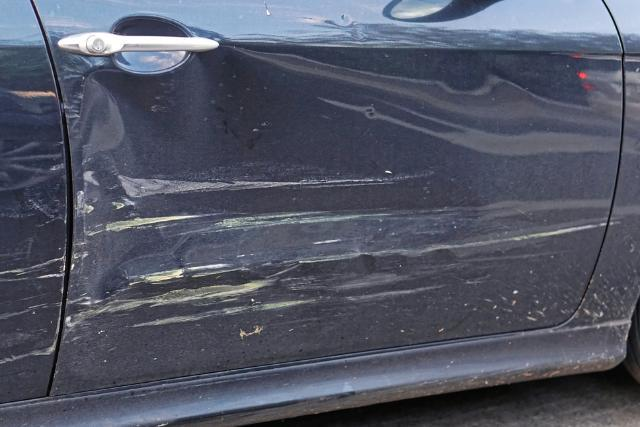Door: (68, 13, 604, 374), (0, 77, 69, 378)
